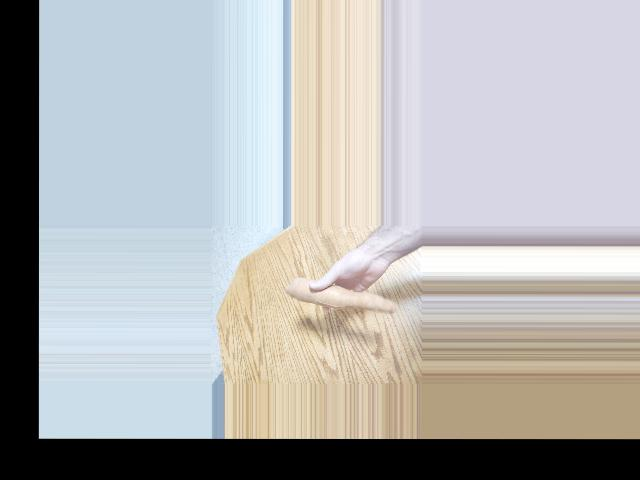sweet_potato: (287, 287, 396, 308)
